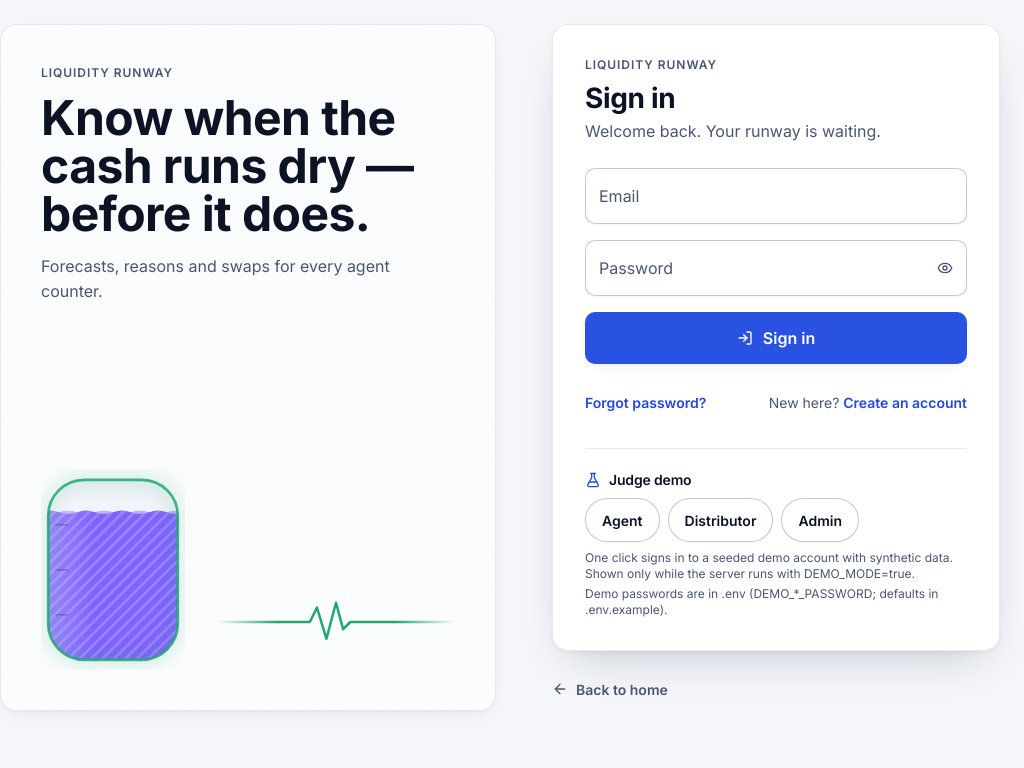
Test case: LoginPage › validates the email format inline on blur
Type "not-an-email" into the field labelled "Email" at (776, 196), box [585, 168, 967, 224]
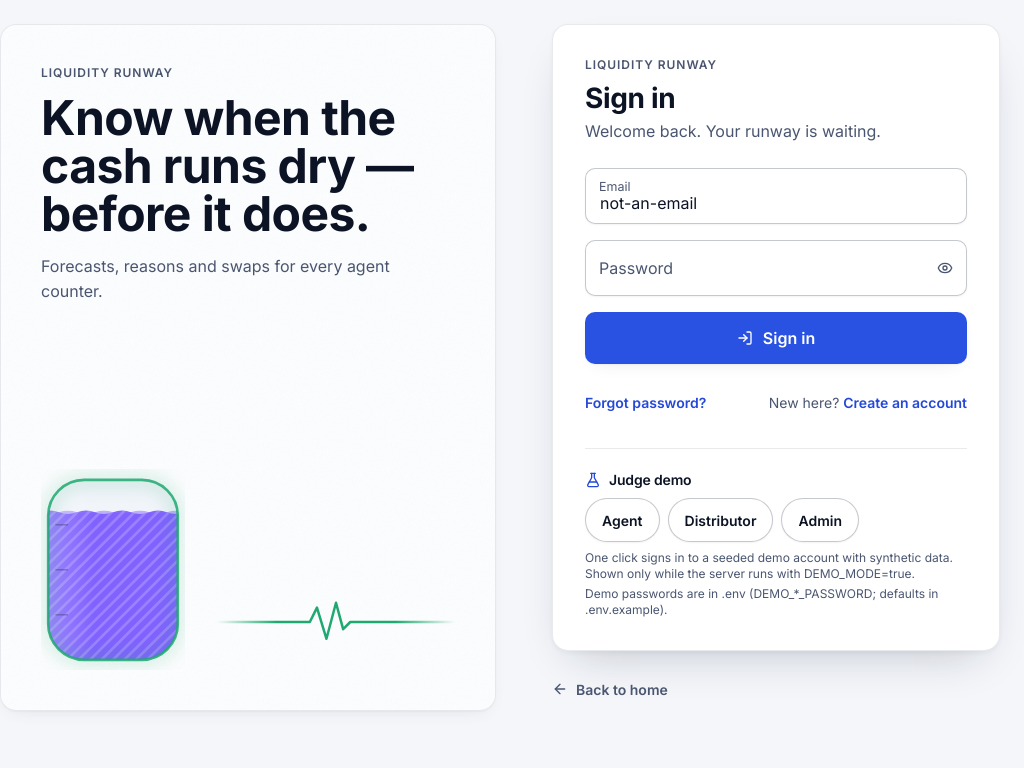
Leave the field labelled "Email", box [585, 168, 967, 224]
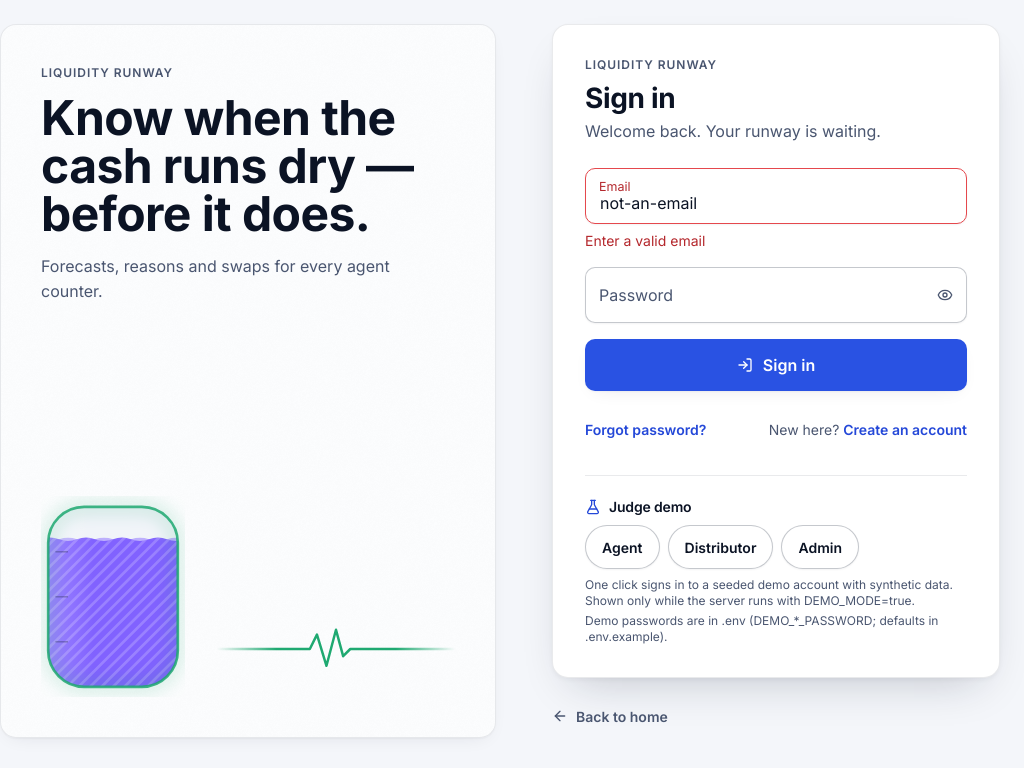
Check: the text "Enter a valid email" is shown, box [585, 232, 705, 249]
